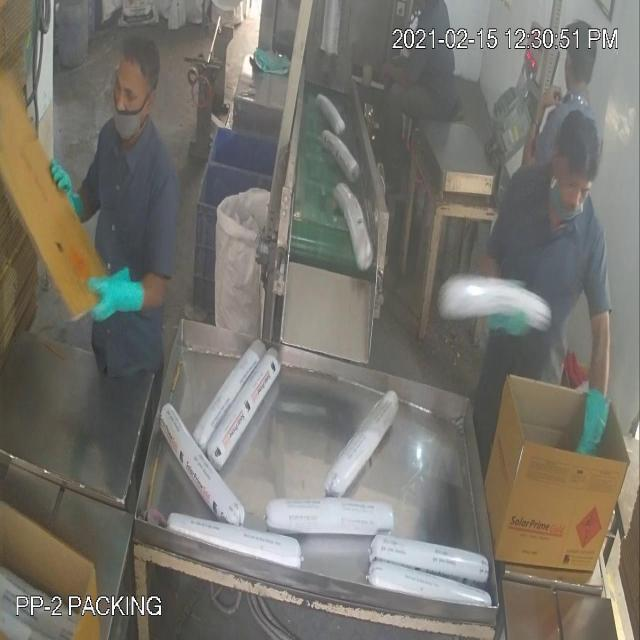Gloves: (48, 78, 595, 425)
